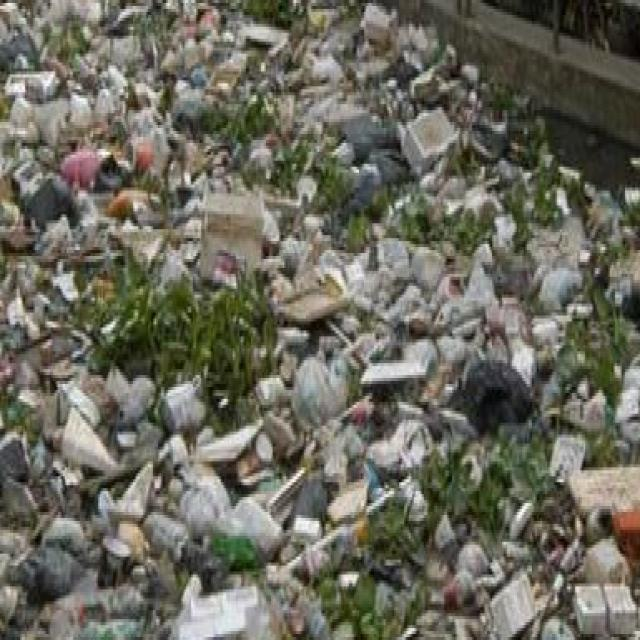-: (190, 30, 432, 640), (0, 0, 135, 432), (552, 274, 640, 640)
